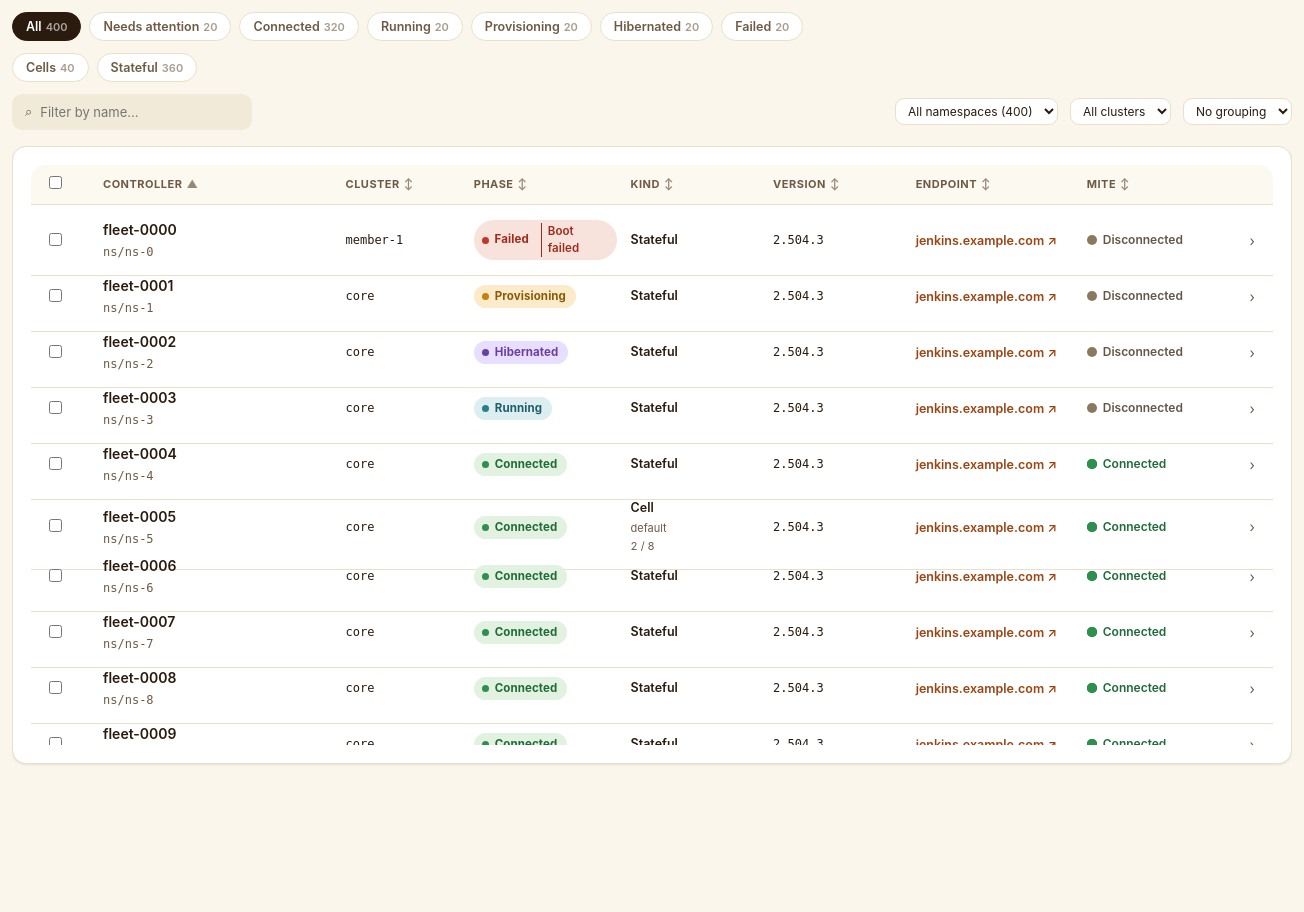
Test: fleet scale › Controllers list grouped by cluster keeps group headers in the virtual window
Step 1. Select "Cluster" in the dropdown named "Group by" → (1238, 112), box [1183,98,1292,125]
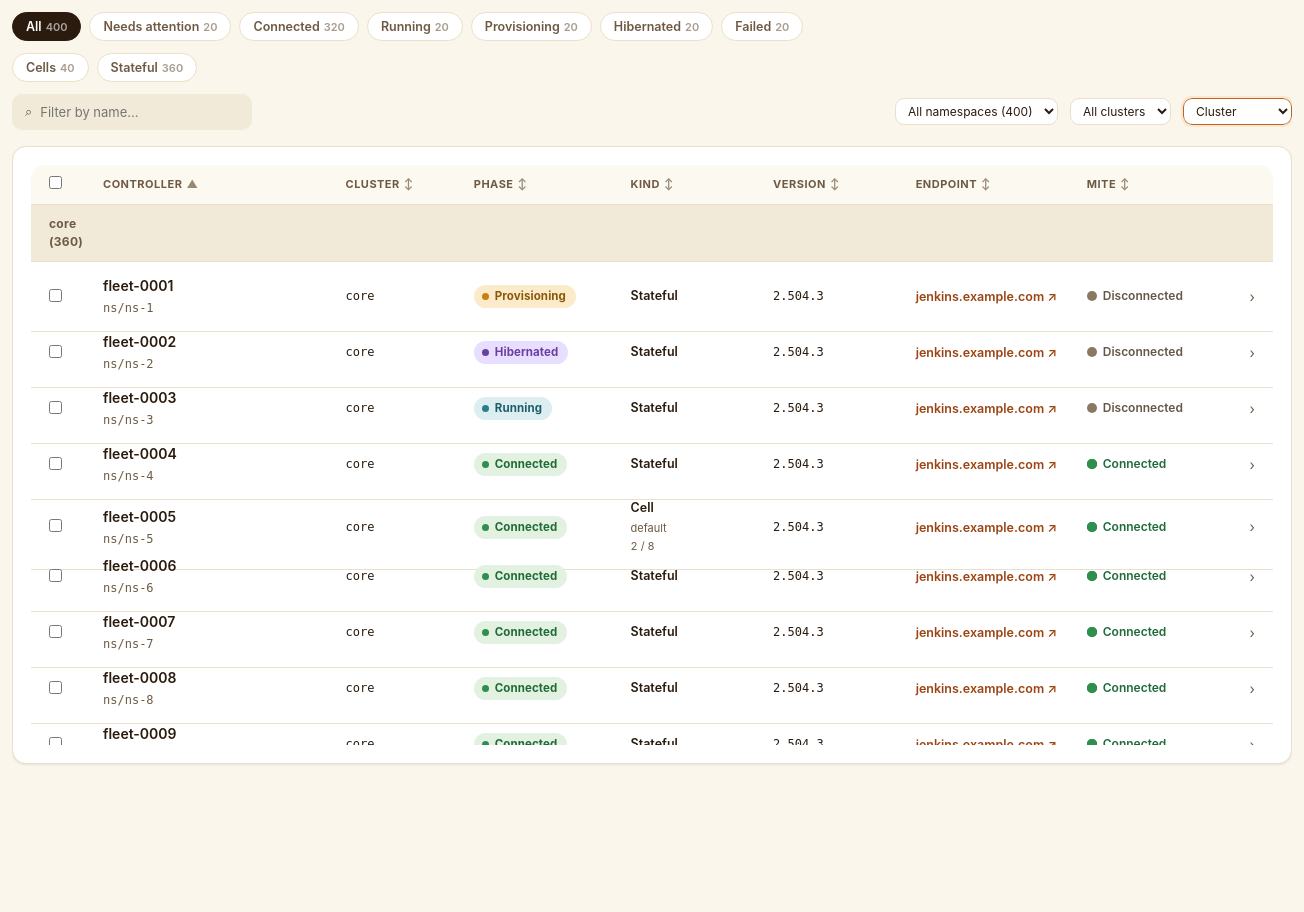
Expected: the text "core (360)" is shown, [31,205,1273,262]
